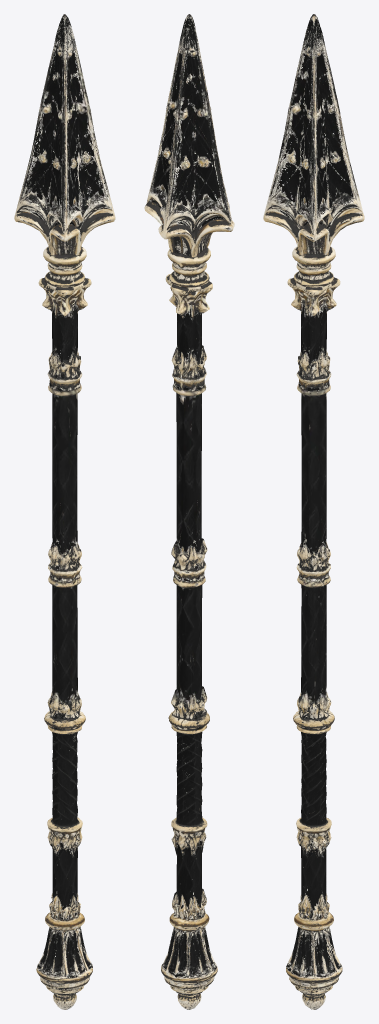
File: lance-black.glb
The picture shows the model from 3 angles, left to right: view 1: azimuth 90°, elevation 25°; view 2: azimuth 150°, elevation 25°; view 3: azimuth 270°, elevation 25°; orthographic projection.
Visible parts, largest first — view 1: Lance; view 2: Lance; view 3: Lance.
Part boxes in pixels (x1,y1,x2,y2): Lance: (14,14,115,1009); Lance: (144,14,234,1009); Lance: (263,14,364,1009).
Bounding box in the file's own units: 0.2479 × 2.7 × 0.2494.
Materials: 1 (1 with a texture image).
